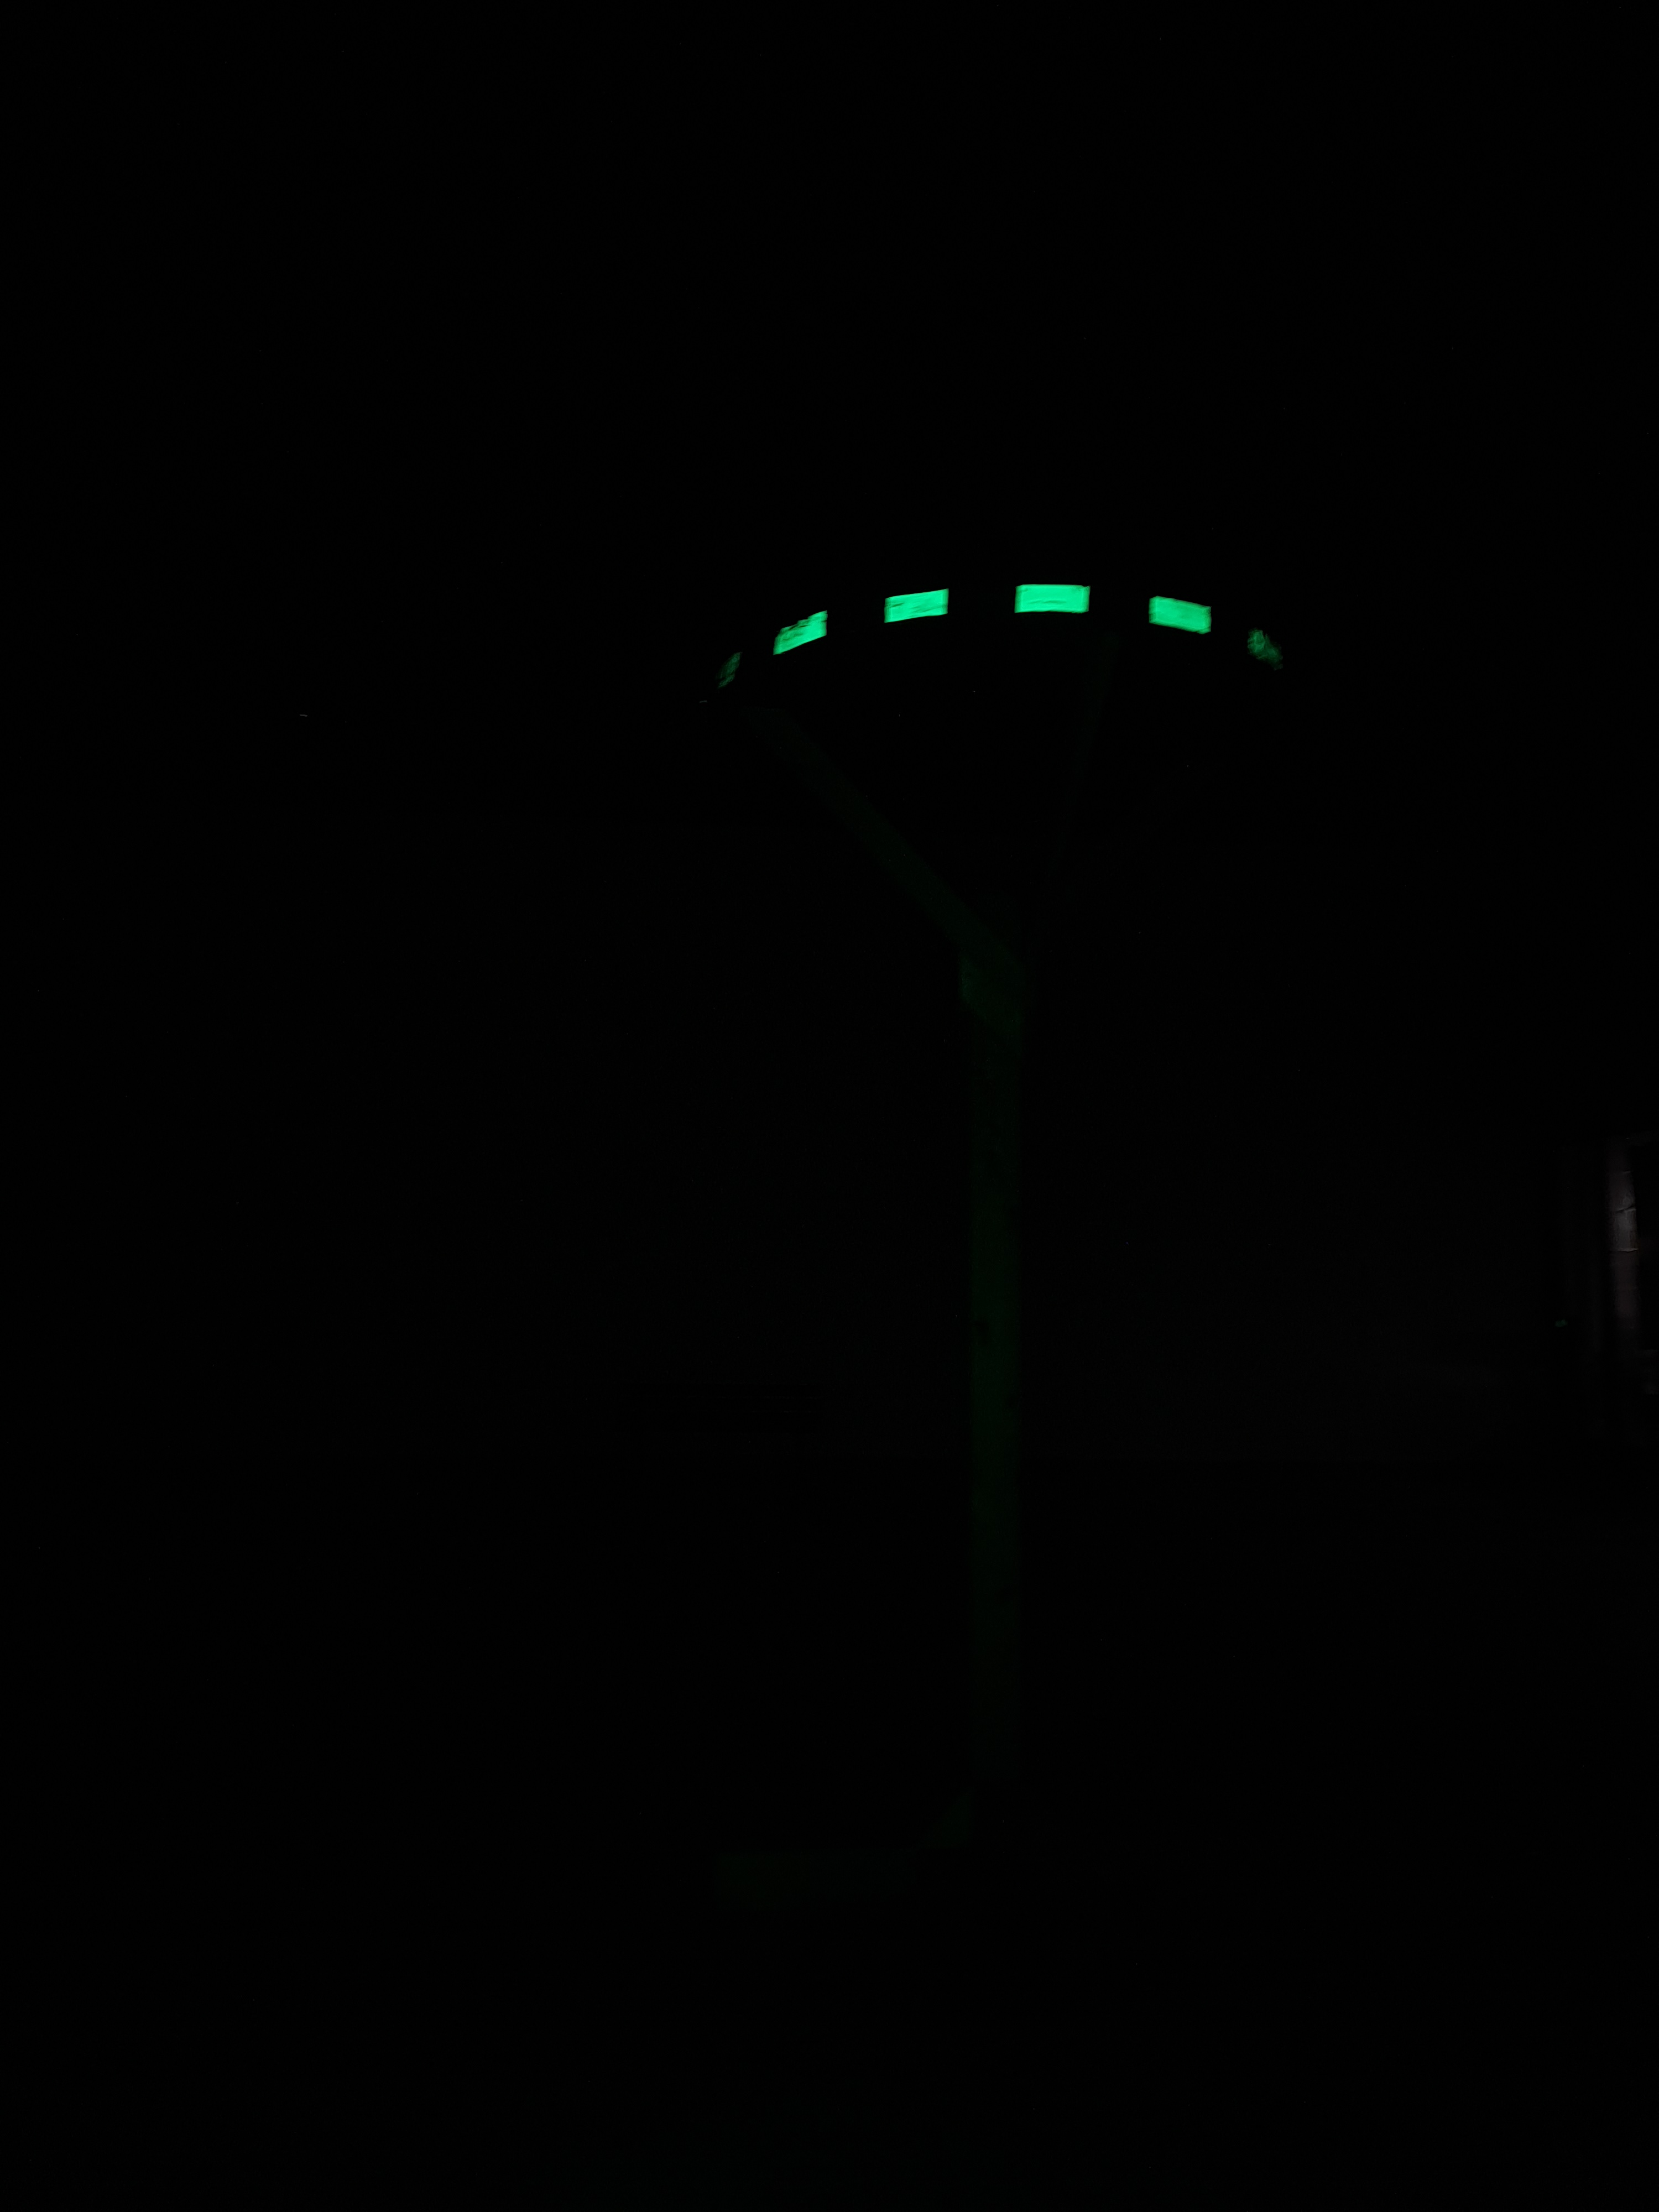hoop: (756, 582, 1288, 669)
